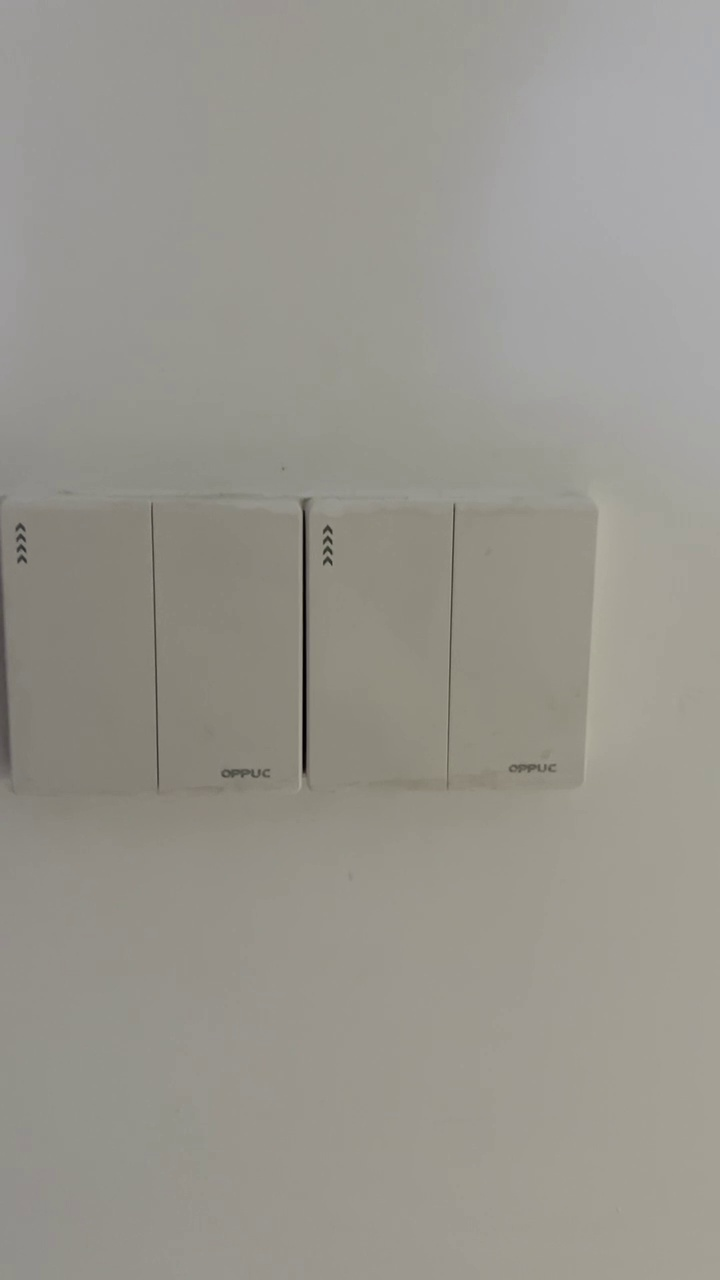button1: (0, 504, 150, 791), (159, 507, 301, 786), (312, 504, 449, 785), (455, 507, 588, 785)
